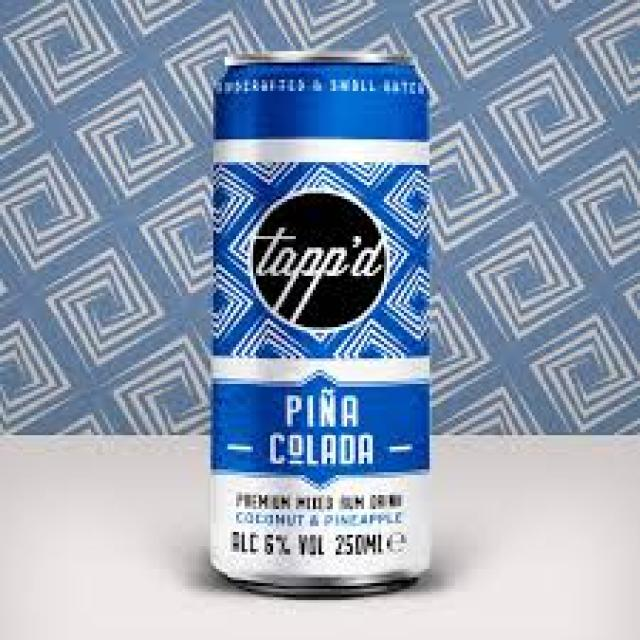Cans: (211, 48, 438, 598)
